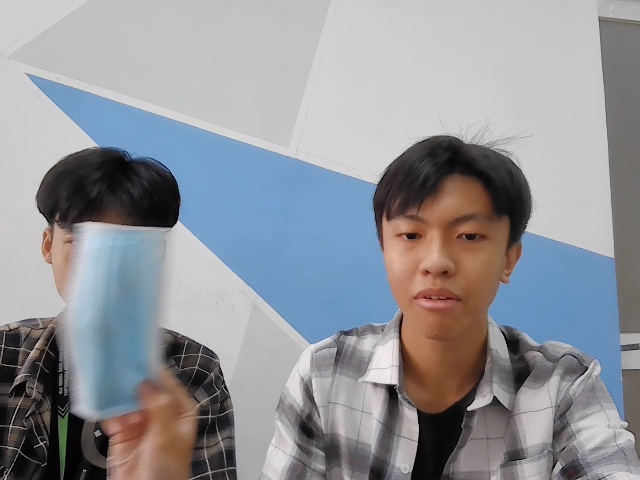human: (372, 137, 533, 336)
mask: (63, 221, 171, 420)
